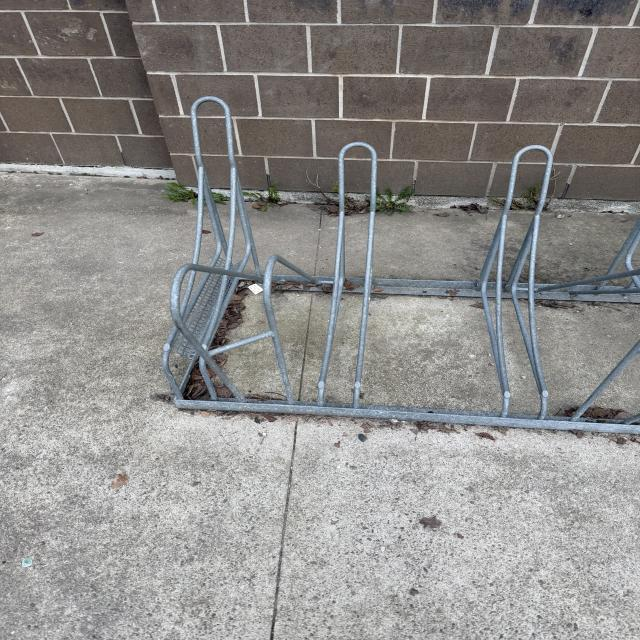Bicycle Rack: (156, 95, 640, 439)
